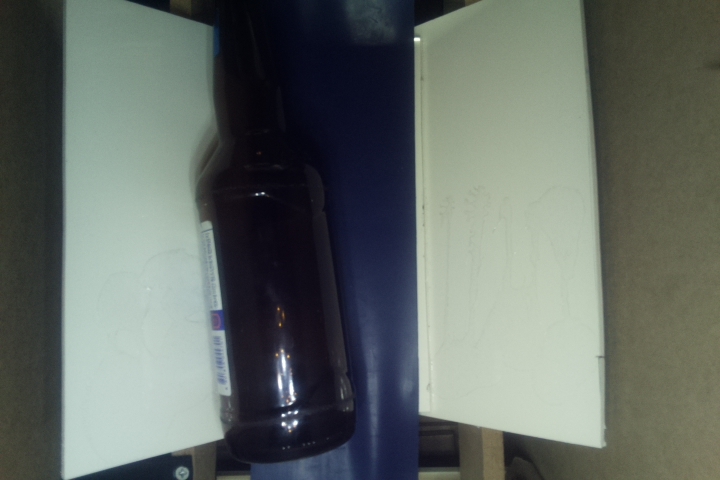makju: (190, 1, 361, 463)
